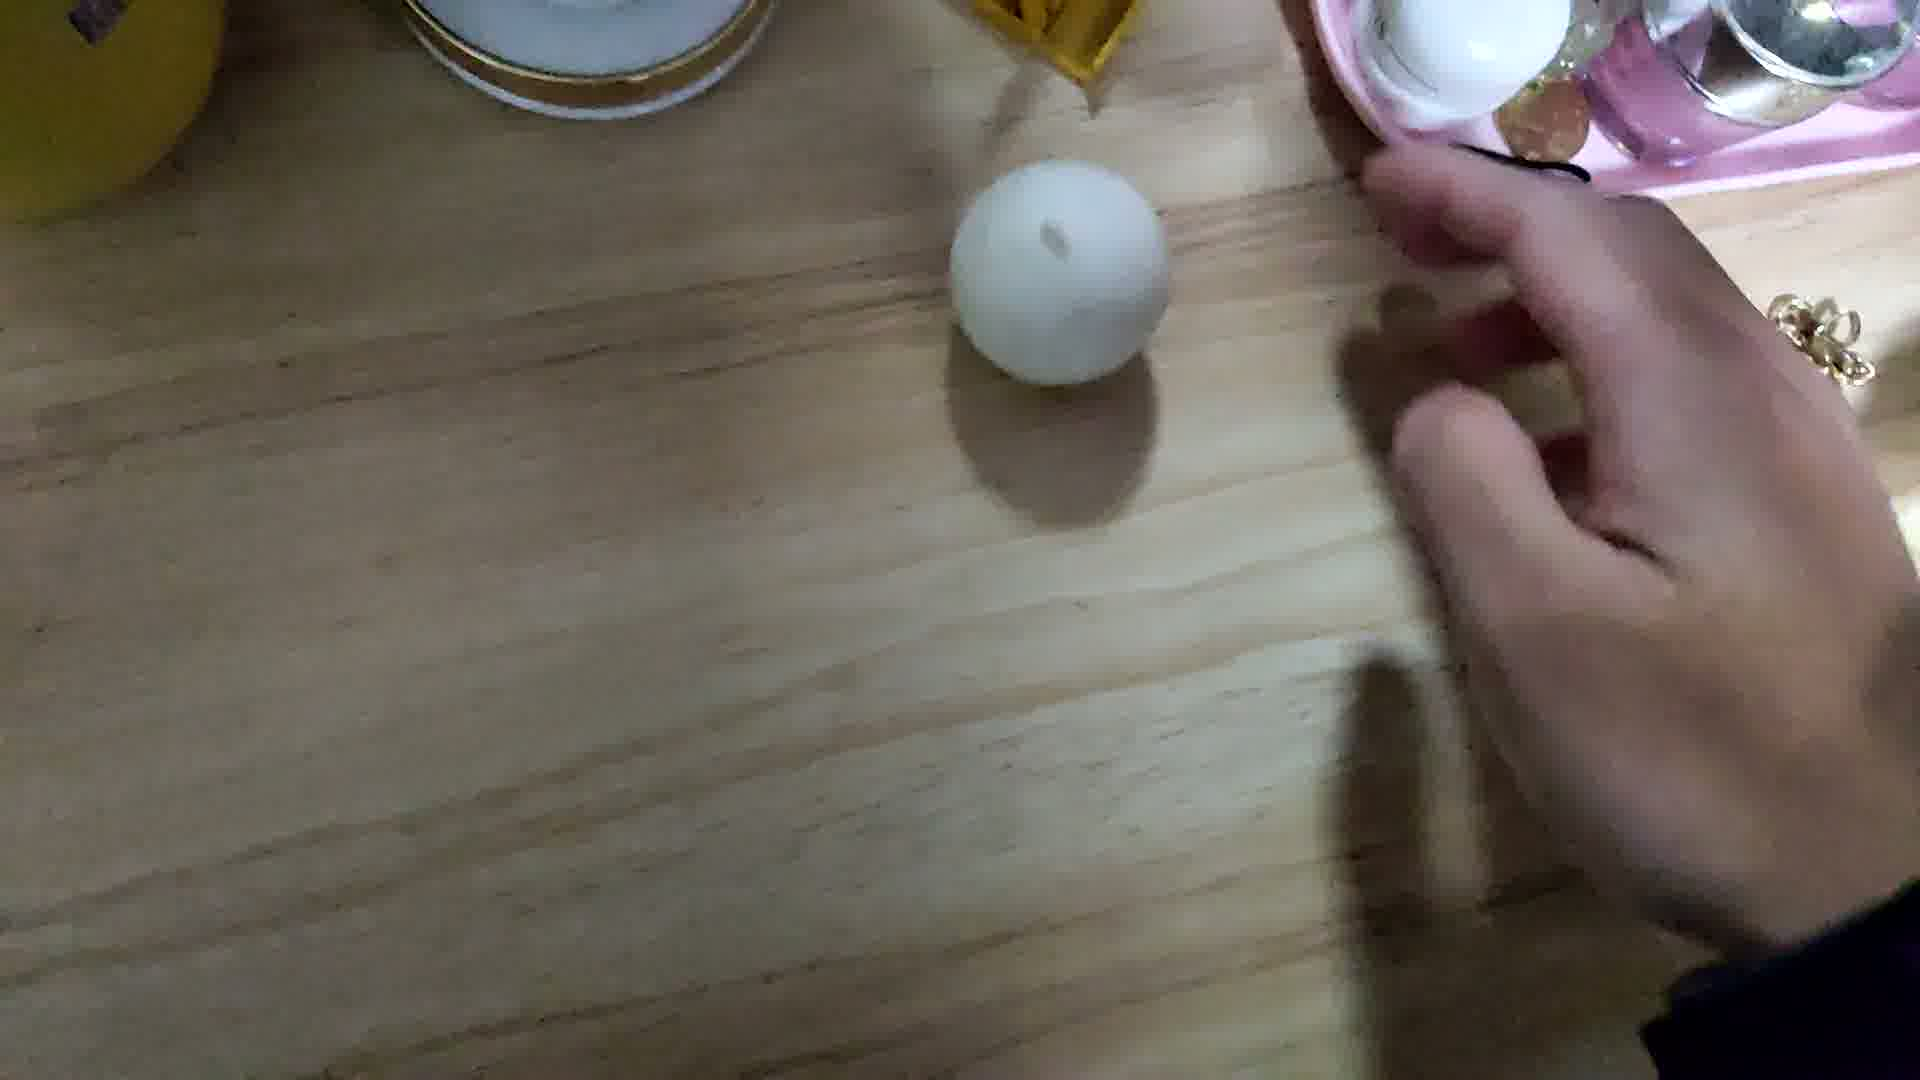Ball: (949, 164, 1178, 386)
